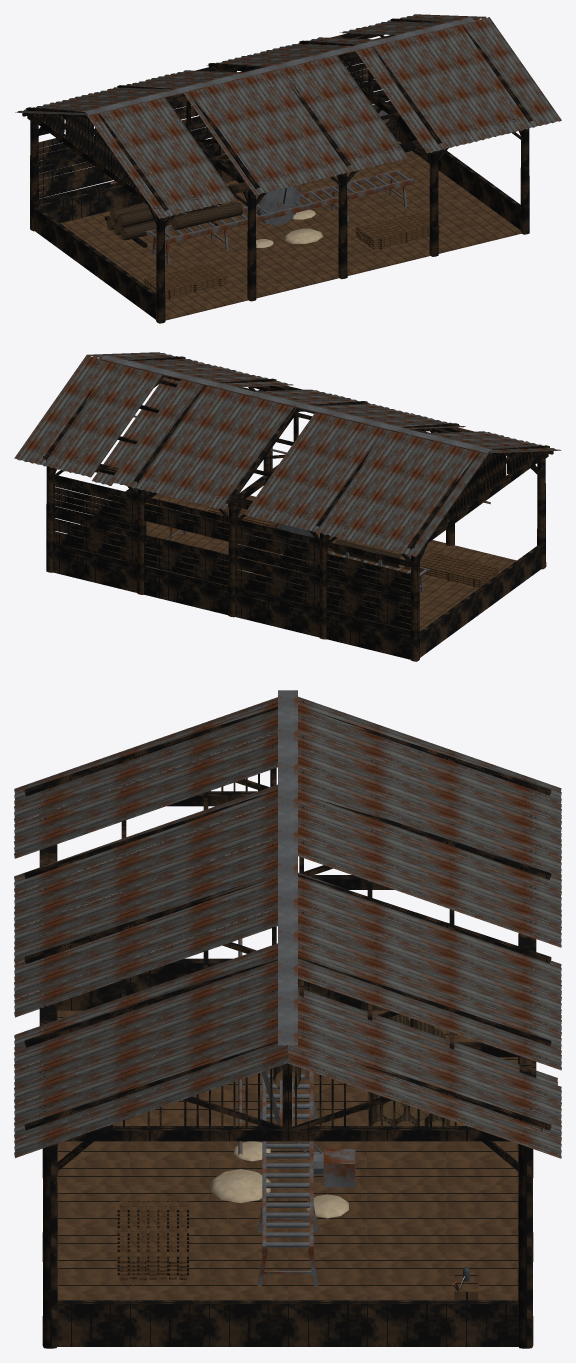
The model's file is sawmill.glb.
The picture shows the model from 3 angles, top to bottom: view 1: azimuth 30°, elevation 25°; view 2: azimuth 150°, elevation 25°; view 3: azimuth 270°, elevation 25°; orthographic projection. The views are drawn at different scales.
Visible parts, largest first — view 1: detail, frame-col; view 2: detail, frame-col; view 3: detail, frame-col.
Part boxes in pixels (left/top/right/bottom): detail: left=15, top=14, right=561, bottom=298; frame-col: left=30, top=108, right=529, bottom=323; detail: left=14, top=352, right=561, bottom=636; frame-col: left=46, top=380, right=546, bottom=661; detail: left=14, top=690, right=561, bottom=1300; frame-col: left=42, top=844, right=533, bottom=1348.
Size of what is drawn, in the model's own units: 22.1 by 8.89 by 13.83.
17 materials, 17 textured.
